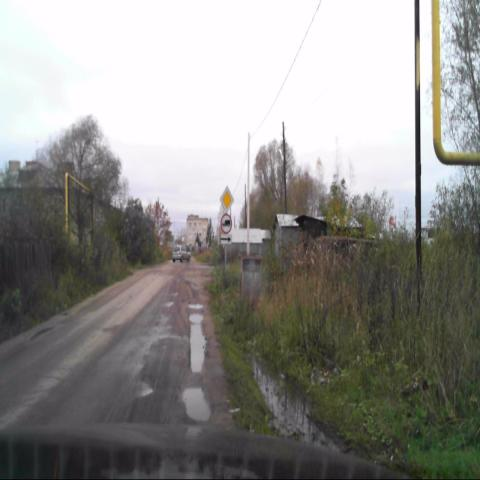3_4_1: (221, 213, 232, 234)
